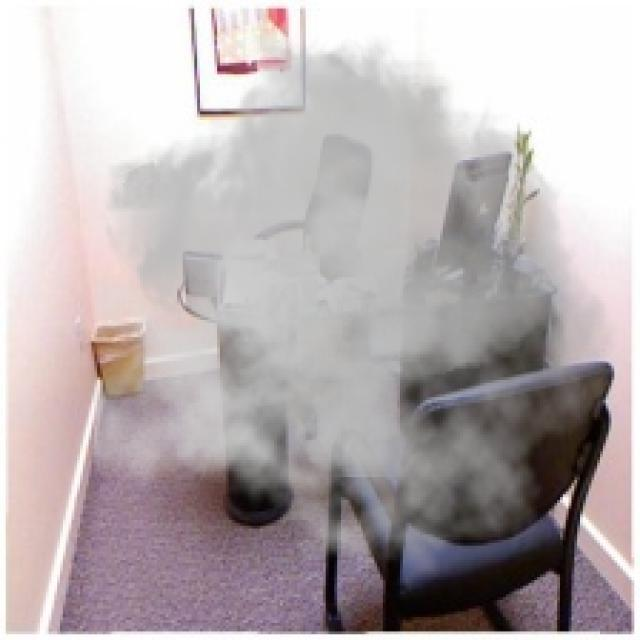smoke: (94, 26, 617, 580)
